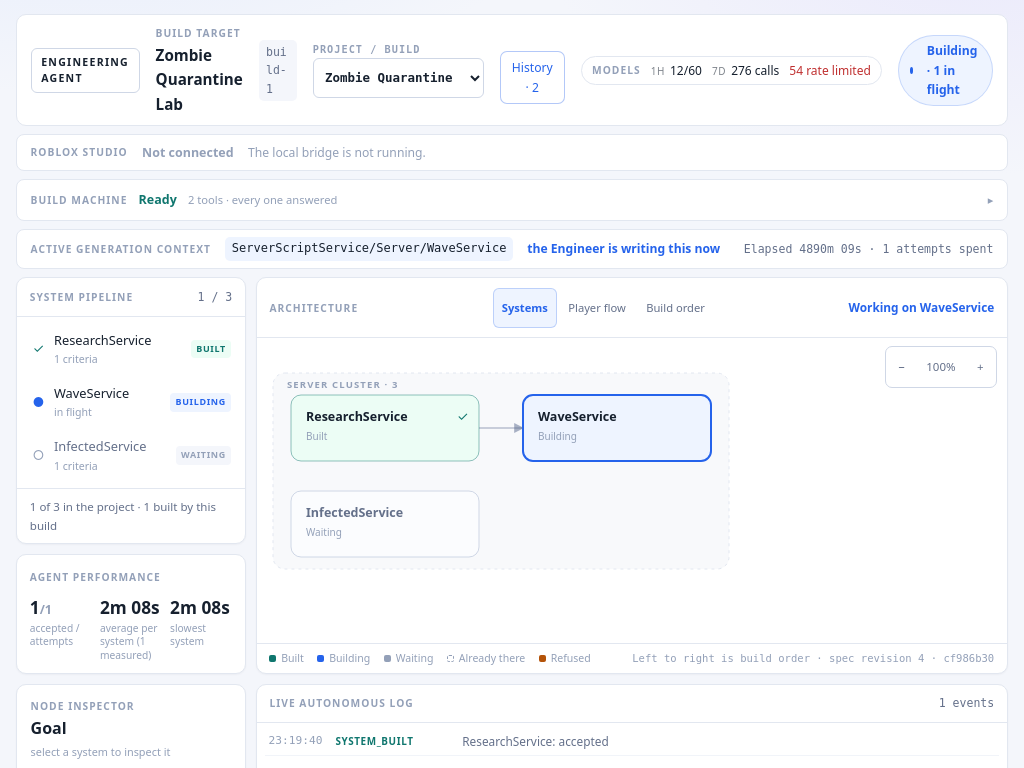
Test case: the planning views › says why each system is where it is, from the plan
expect the element with test id "architecture-map" is shown: met, box [257, 338, 1007, 673]
Click the tab "Build order": (676, 308) [637, 288, 714, 328]
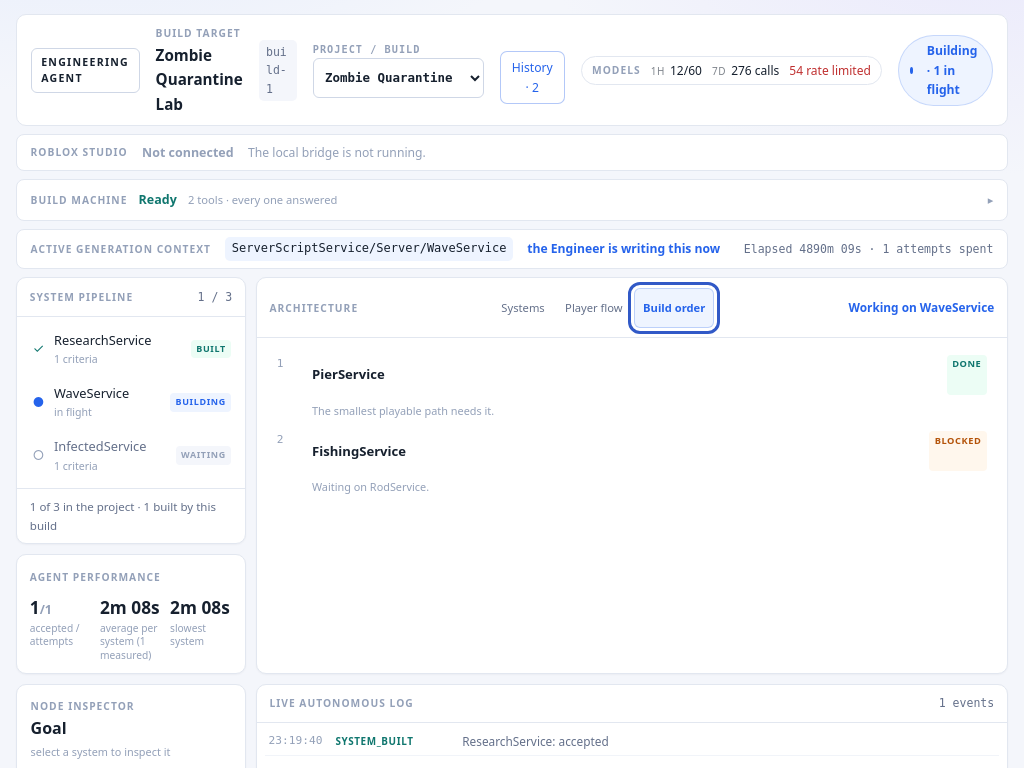
expect the text "Waiting on RodService." is shown: met, box [312, 480, 429, 494]
expect the text "The smallest playable path needs it." is shown: met, box [312, 402, 494, 418]
